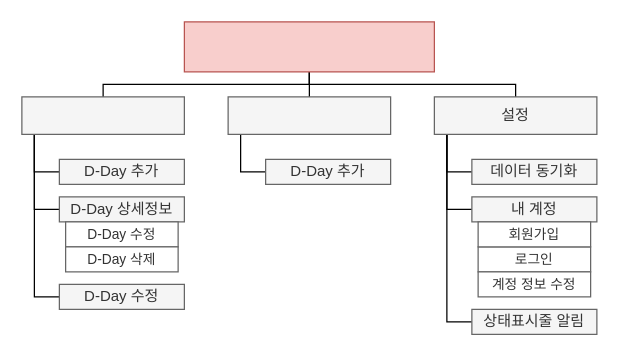
This 619x356 diagram has some shape labels left out. Each missing label, with the centre of its shape:
"D-Day" goes at (102,115).
"Home" goes at (308,46).
"캘린더" goes at (309,115).
